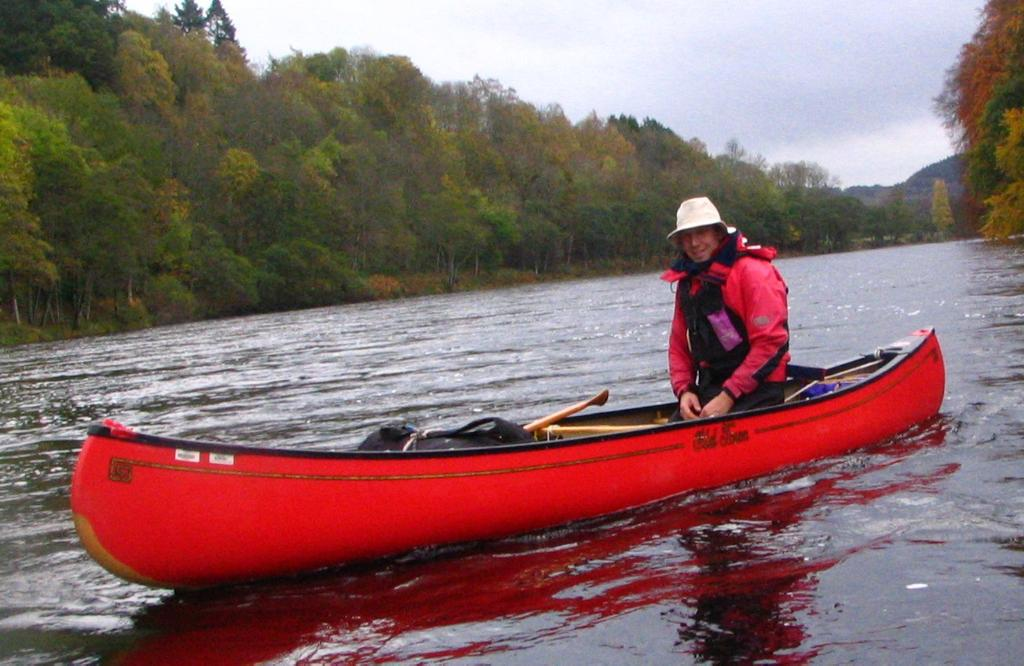face: (682, 222, 719, 263)
